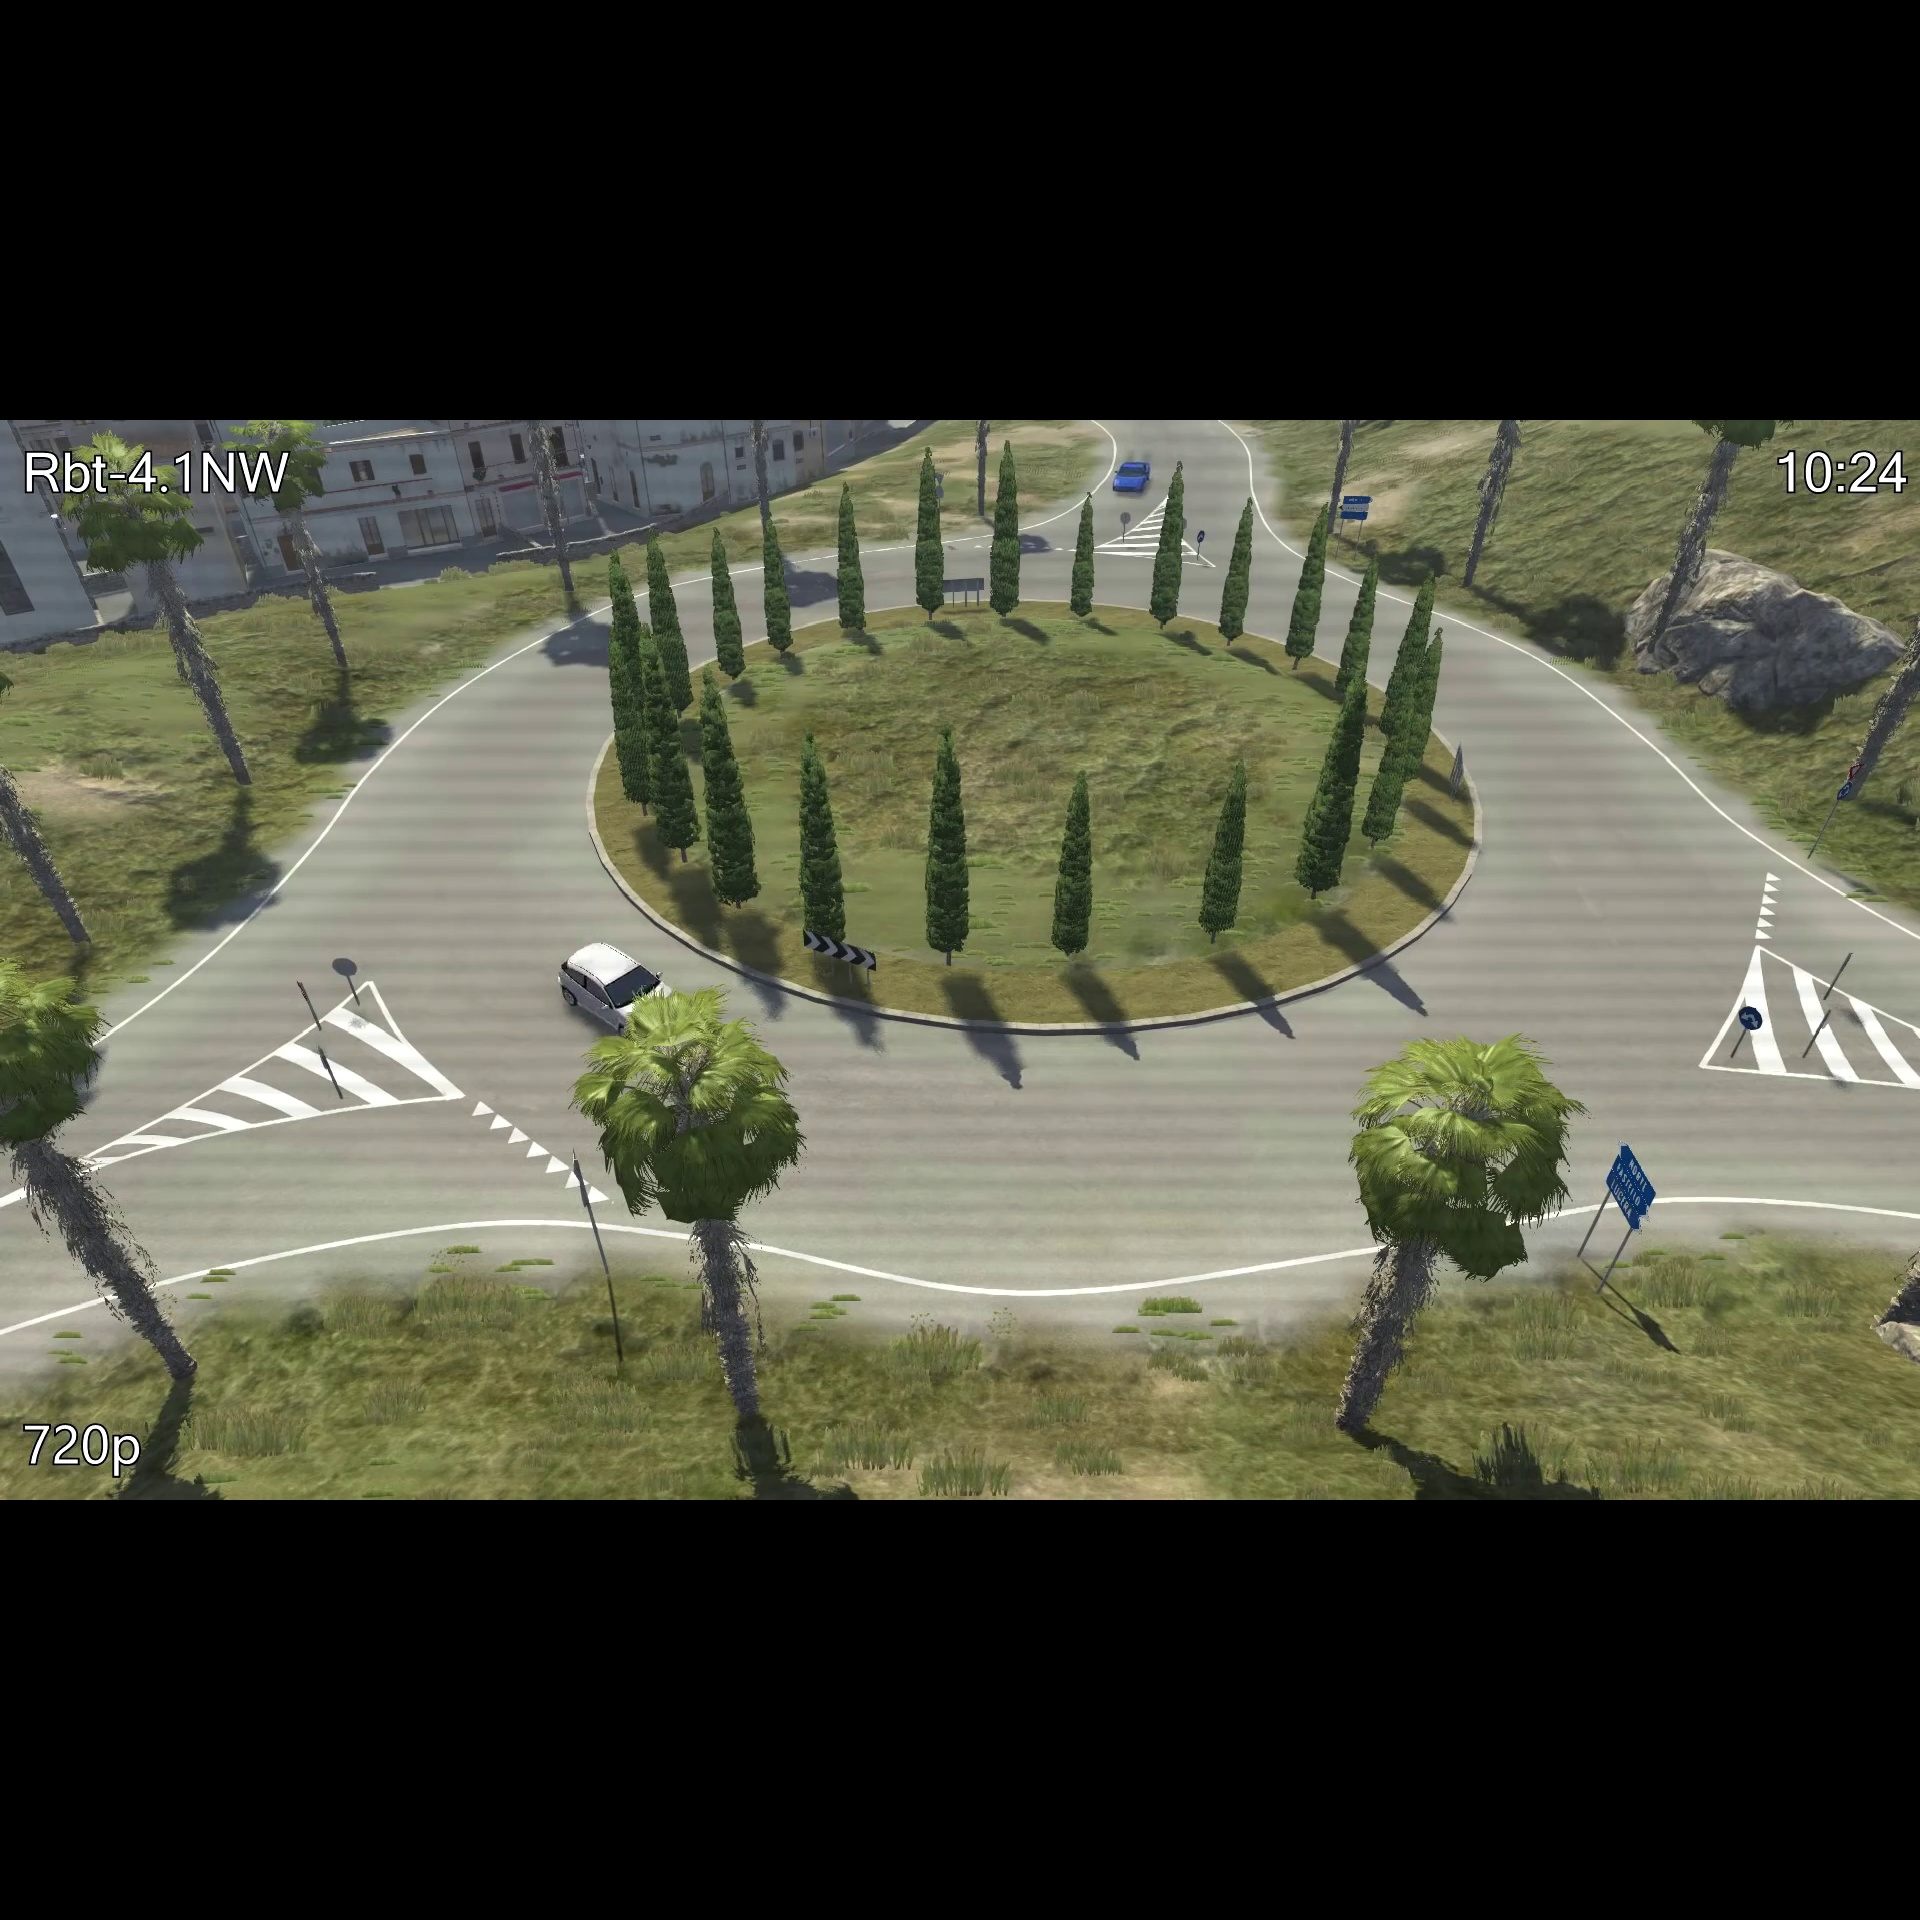vehicle: (547, 934, 693, 1046), (1108, 452, 1155, 498)
